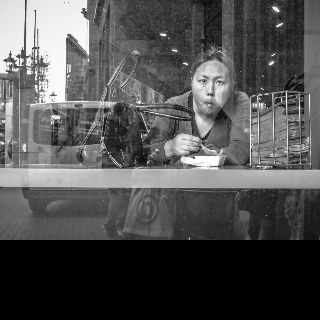without_mask: (190, 60, 232, 117)
